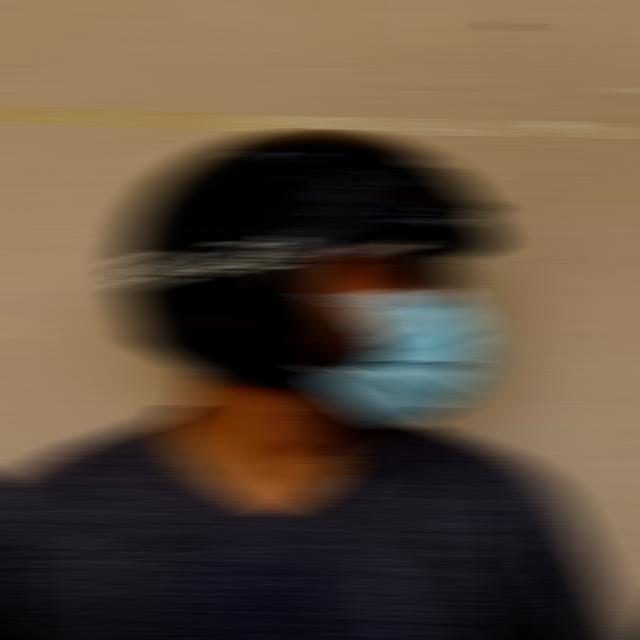With Helmet: (112, 127, 506, 391)
